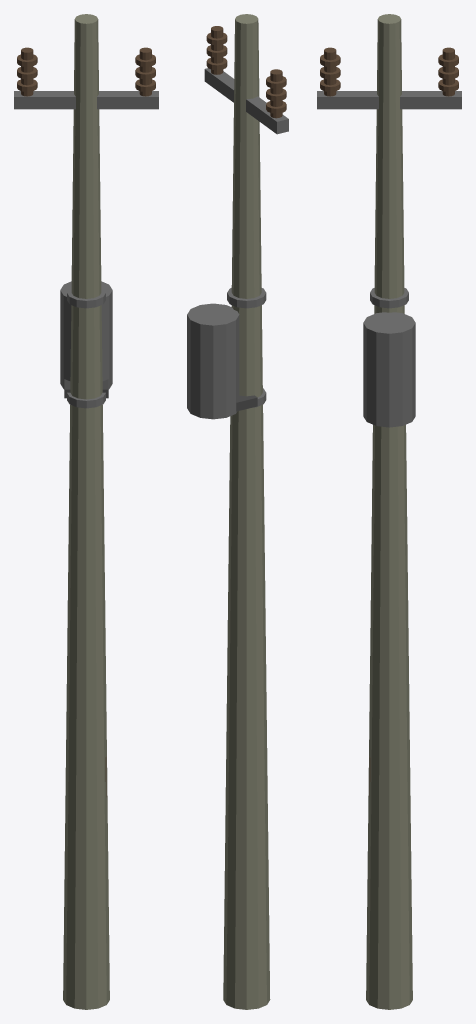
Rendered from utility_pole.fbx.
3 views of the same model, side by side, from view 1: azimuth 90°, elevation 25°; view 2: azimuth 210°, elevation 25°; view 3: azimuth 270°, elevation 25° (orthographic).
Parts seen in each view (by area): view 1: utility_pole.006; view 2: utility_pole.006; view 3: utility_pole.006.
Part boxes in pixels (x1,y1,x2,y2): utility_pole.006: (14,14,158,1009); utility_pole.006: (187,14,288,1009); utility_pole.006: (317,14,461,1009).
Bounding box in the file's own units: 0.64 × 7.85 × 1.05.
